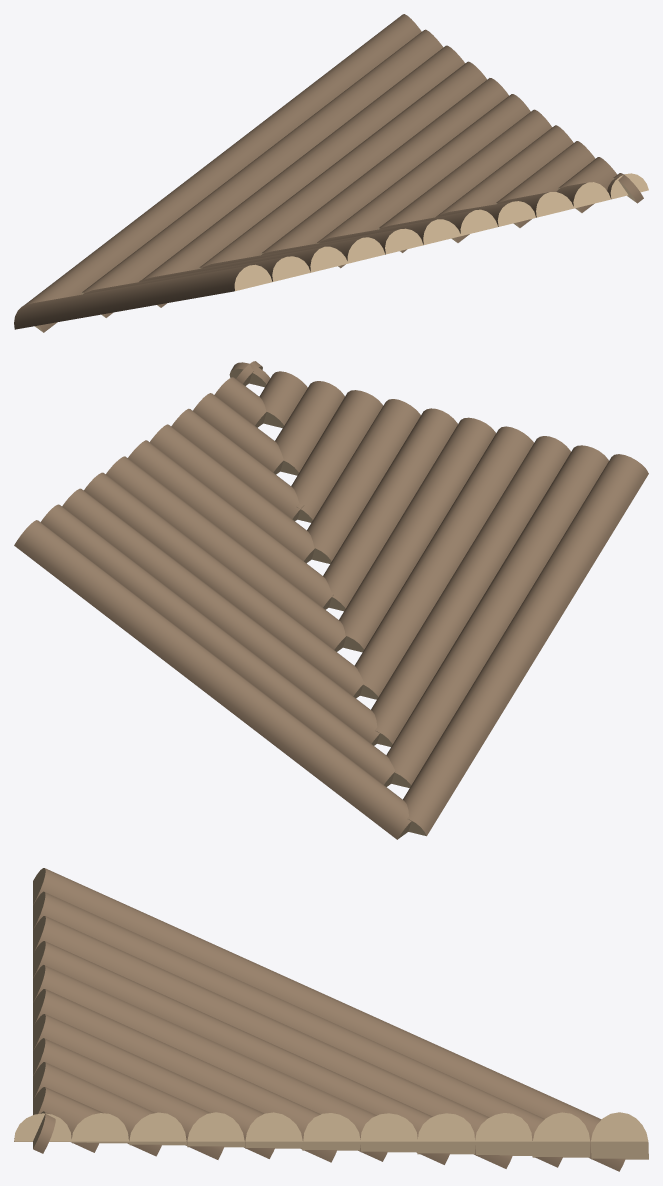
File: log_roof_inner_low.glb
The picture shows the model from 3 angles, top to bottom: view 1: azimuth 30°, elevation 25°; view 2: azimuth 150°, elevation 25°; view 3: azimuth 270°, elevation 25°; orthographic projection. The views are drawn at different scales.
Visible parts, largest first — view 1: Roof; view 2: Roof; view 3: Roof.
Part boxes in pixels (box(x1,y1,x2,y2)): Roof: box(14, 14, 648, 332); Roof: box(14, 361, 648, 839); Roof: box(14, 868, 648, 1171).
Bounding box in the file's own units: 3.08 × 1.55 × 3.08.
